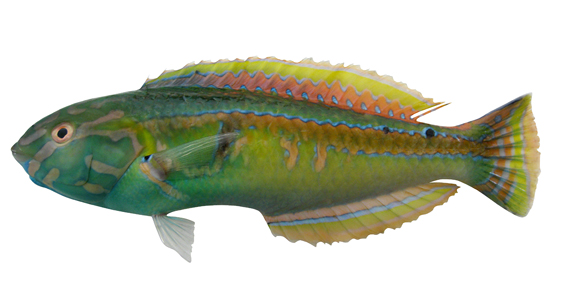fish: (10, 55, 542, 263)
